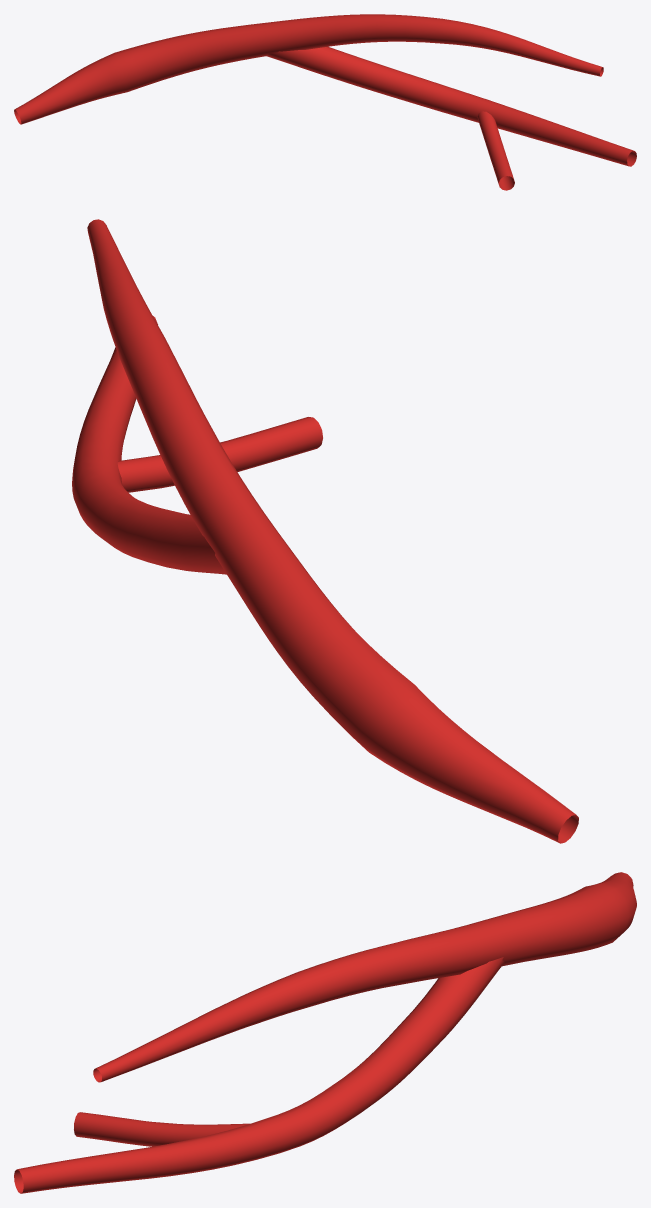
The model's file is circulatorio-anterior-vein-of-left-lung.glb.
3 views of the same model, one above another, from view 1: azimuth 30°, elevation 25°; view 2: azimuth 150°, elevation 25°; view 3: azimuth 270°, elevation 25° (orthographic). The views are drawn at different scales.
Parts seen in each view (by area): view 1: Anterior vein of left lung; view 2: Anterior vein of left lung; view 3: Anterior vein of left lung.
Part boxes in pixels (x1=…): Anterior vein of left lung: x1=14, y1=14, x2=636, y2=190; Anterior vein of left lung: x1=72, y1=219, x2=578, y2=843; Anterior vein of left lung: x1=14, y1=872, x2=636, y2=1193.
Size of the model in its own units: 0.0587 by 0.0151 by 0.0499.
